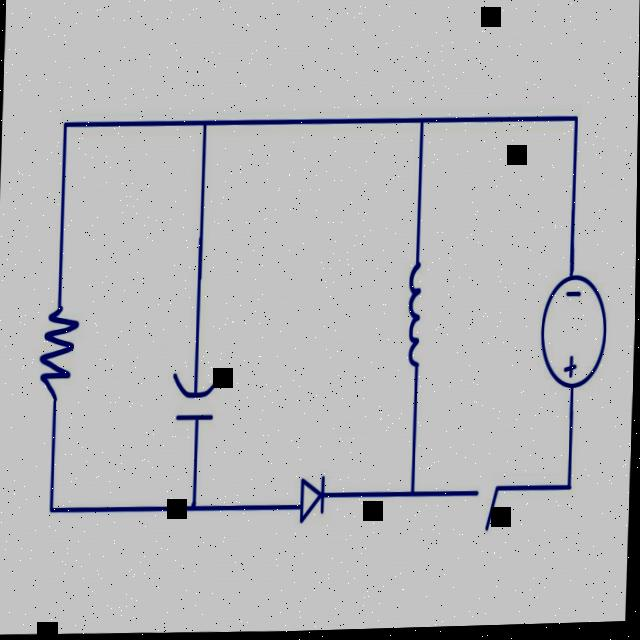capacitor: (158, 355, 228, 440)
diode: (286, 446, 341, 535)
inductor: (385, 247, 444, 395)
resistor: (24, 288, 98, 433)
source: (529, 261, 614, 414)
switch: (455, 459, 512, 550)
